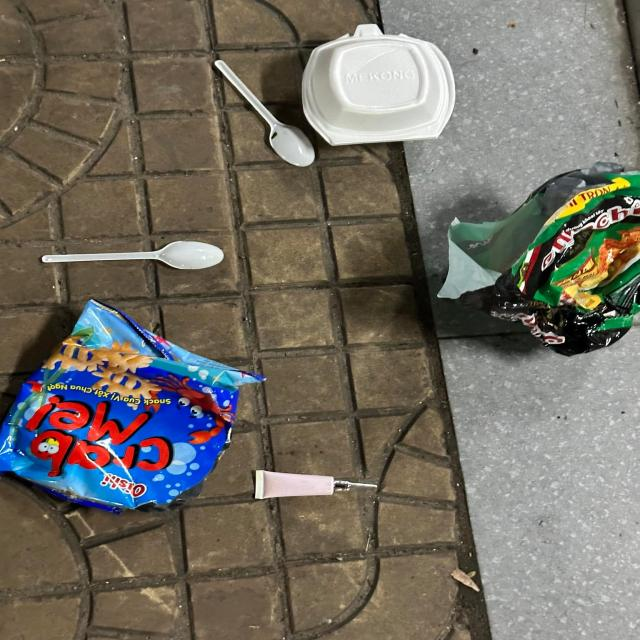foam box: (302, 23, 455, 147)
plastic utensil: (216, 62, 314, 168), (40, 242, 222, 270)
snack package: (2, 298, 270, 513), (434, 161, 640, 357)
